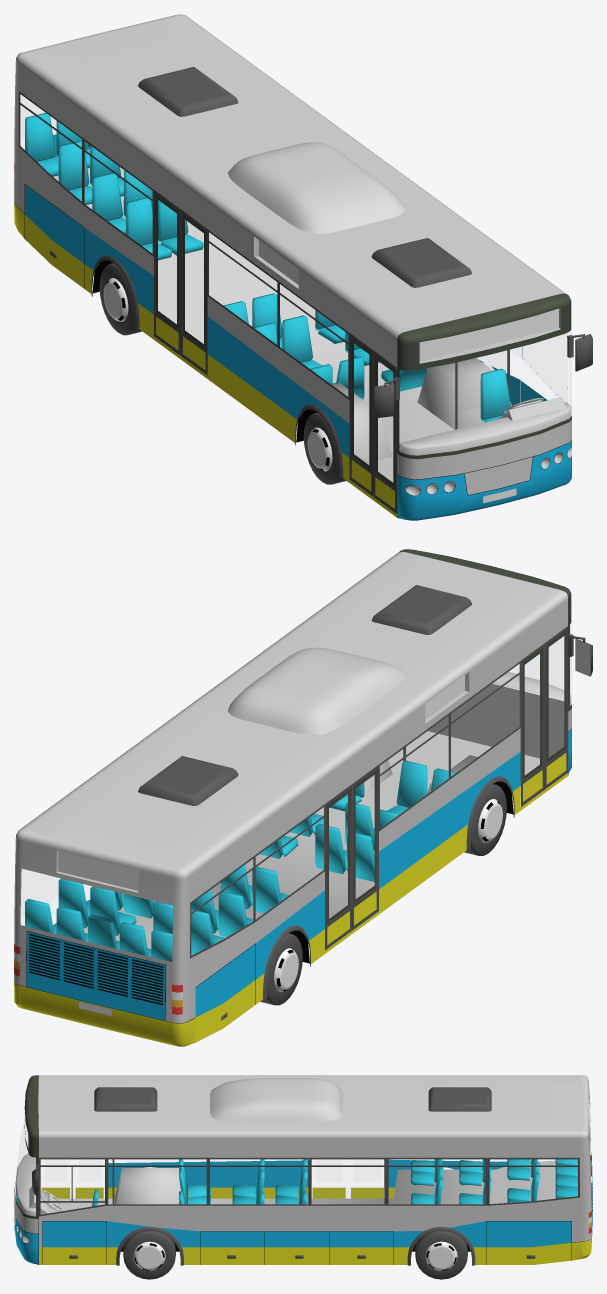
The model's file is bus.gltf.
3 renders of one model, top to bottom at view 1: azimuth 30°, elevation 25°; view 2: azimuth 150°, elevation 25°; view 3: azimuth 270°, elevation 25°, orthographic. The views are drawn at different scales.
Parts seen in each view (by area): view 1: body, interior, plastic, bluecover, pseatbackp, glassblk, yellowcover, text, pseat, tyre, glass, wheel (+2 smaller); view 2: body, pseatbackp, interior, bluecover, plastic, yellowcover, black, glassblk, text, tyre, wheel, pseat; view 3: body, bluecover, plastic, yellowcover, interior, pseat, tyre, pseatbackp, wheel, glassblk, black.
Boxes of the visible parts, box(x1,y1,x2,y2) form: body: box(14, 14, 571, 494); interior: box(53, 150, 571, 482); plastic: box(19, 67, 592, 513); bluecover: box(25, 134, 571, 520); pseatbackp: box(25, 113, 427, 399); glassblk: box(156, 195, 571, 487); yellowcover: box(14, 203, 397, 517); text: box(259, 240, 558, 361); pseat: box(38, 150, 427, 384); tyre: box(99, 263, 346, 484); glass: box(458, 351, 506, 412); wheel: box(103, 278, 332, 471); body: box(14, 551, 571, 1023); pseatbackp: box(25, 760, 455, 961); interior: box(56, 671, 571, 955); bluecover: box(26, 729, 571, 1020); plastic: box(138, 585, 592, 1020); yellowcover: box(14, 753, 567, 1046); black: box(14, 728, 571, 1023); glassblk: box(327, 549, 571, 923); text: box(58, 675, 464, 890); tyre: box(260, 784, 506, 1005); wheel: box(274, 799, 502, 991); pseat: box(53, 794, 407, 956); body: box(14, 1075, 592, 1247); bluecover: box(14, 1152, 592, 1264); plastic: box(32, 1087, 579, 1265); yellowcover: box(39, 1183, 591, 1264); interior: box(15, 1119, 589, 1216); pseat: box(188, 1159, 577, 1204); tyre: box(123, 1230, 467, 1279); pseatbackp: box(179, 1159, 539, 1204); wheel: box(133, 1241, 457, 1270); glassblk: box(14, 1075, 38, 1218); black: box(15, 1176, 592, 1270).
Size of the model in its own units: 3.17 by 3.14 by 10.25.
